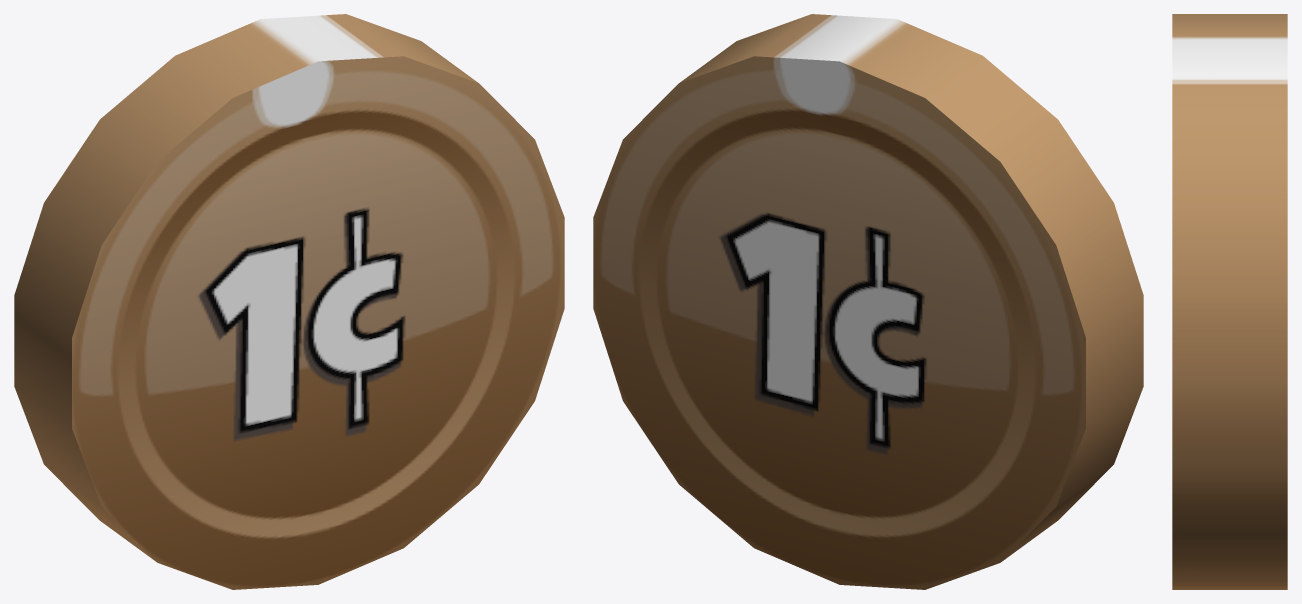
The model's file is Coin.fbx.
3 views of the same model, side by side, from view 1: azimuth 30°, elevation 25°; view 2: azimuth 150°, elevation 25°; view 3: azimuth 270°, elevation 25° (orthographic).
Visible parts, largest first — view 1: Coin; view 2: Coin; view 3: Coin.
Boxes of the visible parts, box(x1,y1,x2,y2) form: Coin: box(14, 14, 564, 589); Coin: box(593, 14, 1143, 589); Coin: box(1172, 14, 1287, 589).
Size of the model in its own units: 50.02 by 50.79 by 10.16.
